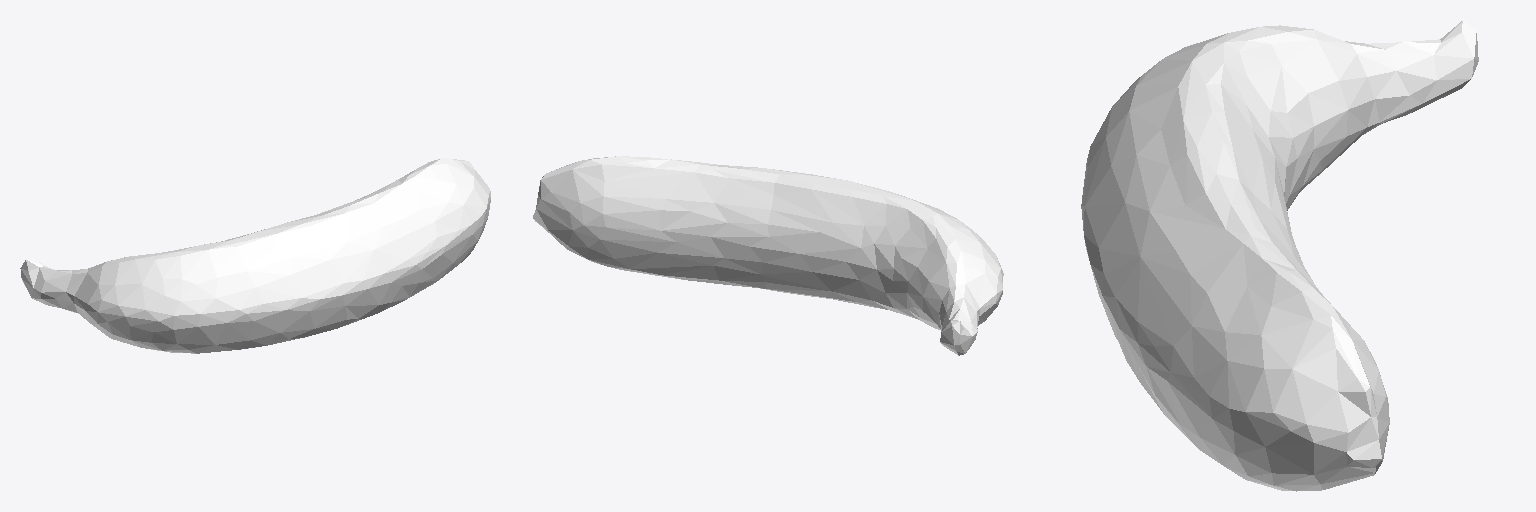
The robot description file, URDF, robot "banana.urdf":
<?xml version="0.0" ?>
<robot name="banana.urdf">
  <link name="baseLink">
    <contact>
      <lateral_friction value="0.3"/>
      <stiffness value="10000.0"/>
    </contact>
    <inertial>
      <origin rpy="0 0 0" xyz="0 0 0"/>
       <mass value="0.1"/>
       <inertia ixx="1" ixy="0" ixz="0" iyy="1" iyz="0" izz="1"/>
    </inertial>
    <visual>
      <origin rpy="0 0 0" xyz="0 0 0"/>
      <geometry>
            <mesh filename="banana.stl" scale="0.001 0.001 0.001"/>
      </geometry>
       <material name="white">
        <color rgba="1 1 1 1"/>
      </material>
    </visual>
    <collision>
      <origin rpy="0 0 0" xyz="0 0 0"/>
      <geometry>
	 	<mesh filename="banana.stl" scale="0.001 0.001 0.001"/>
      </geometry>
    </collision>
  </link>  
</robot>

--- What the picture shows (computed from the rendered views, not written in the file) ---
The picture shows the robot from 3 angles, left to right: view 1: azimuth 30°, elevation 25°; view 2: azimuth 150°, elevation 25°; view 3: azimuth 270°, elevation 25°; orthographic projection.
Model banana.urdf with 1 links and 0 joints (none), rooted at baseLink, posed all joints at 0.
Visible links, largest first — view 1: baseLink; view 2: baseLink; view 3: baseLink.
Boxes of the visible links, x1,y1,x2,y2 form: baseLink: (20,158,490,353); baseLink: (533,156,1003,355); baseLink: (1081,21,1478,491).
Size in the robot's own frame: 0.1296 by 0.054 by 0.0305 metres.
1 mesh visuals loaded from 1 distinct referenced files (1 binary STL).